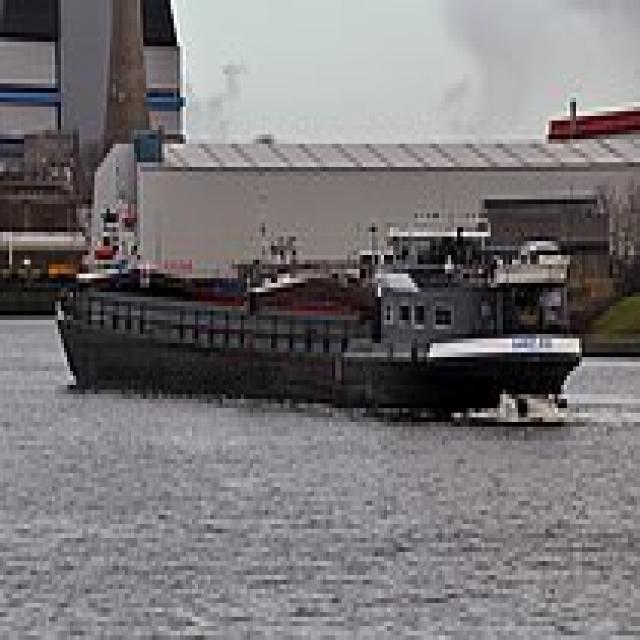Ship: (50, 215, 593, 442)
